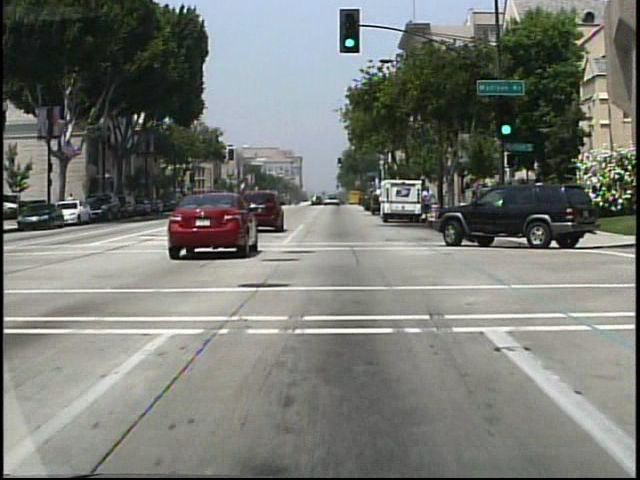person: (422, 186, 435, 220), (361, 190, 374, 214), (68, 191, 79, 216)
